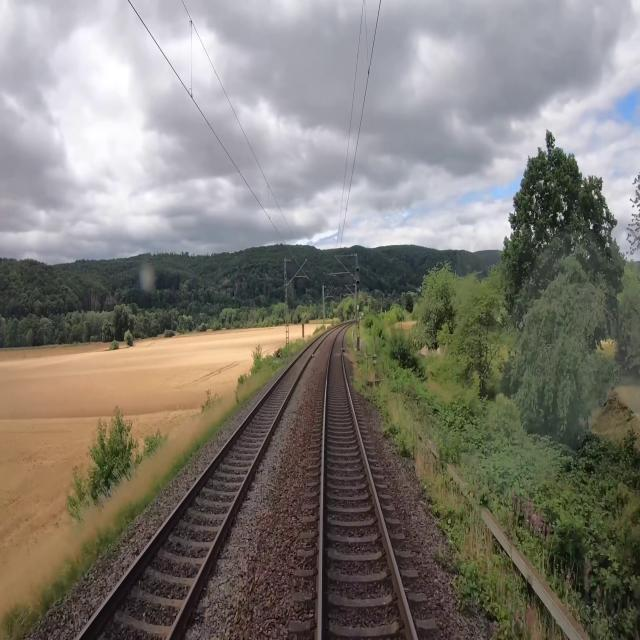Plant: (425, 488, 514, 639), (351, 361, 381, 408), (382, 409, 409, 457)
